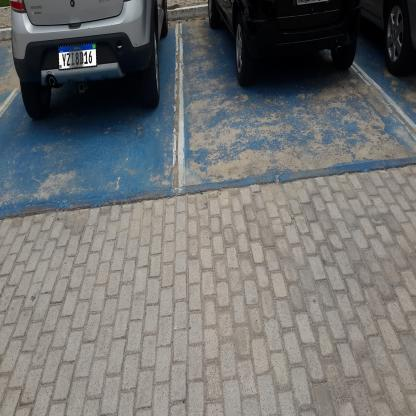PlacaM: (58, 42, 97, 70)
